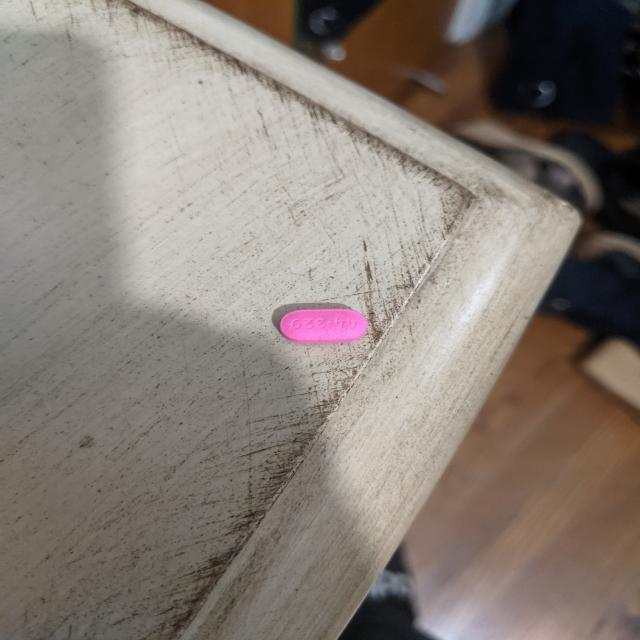non-organic waste: (279, 308, 368, 344)
